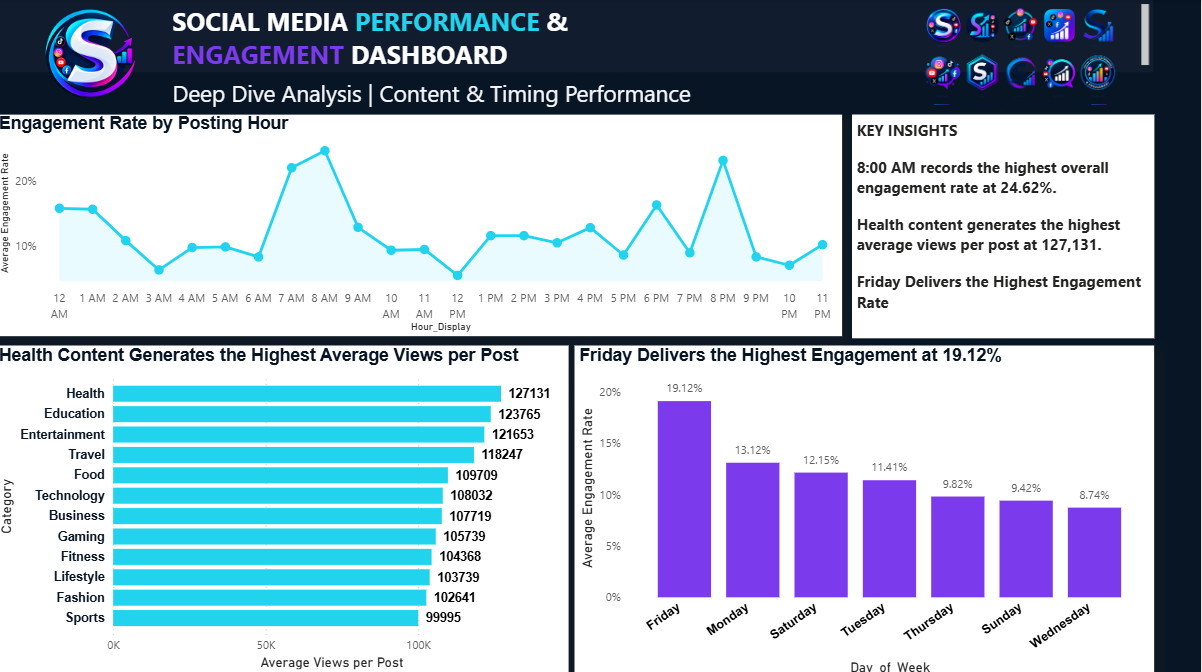

Layout of this report page (visuals, bound fields, positions):
{"tool":"powerbi","page":{"name":"Page 2","canvas":[1280,720],"ordinal":1},"visuals":[{"type":"lineChart","title":"Engagement Rate by Posting Hour","fields":{"Y":["Blisscotech_Hackathon_Cleaned_D.Average Engagement Rate"],"Category":["Blisscotech_Hackathon_Cleaned_D.Hour_Display"]},"box":[0,121.3,899.4,236.9],"z":0},{"type":"clusteredBarChart","title":"Health Content Generates the Highest Average Views per Post","fields":{"Category":["Blisscotech_Hackathon_Cleaned_D.Category"],"Y":["Blisscotech_Hackathon_Cleaned_D.Average Views per Post"]},"box":[0,366.7,609.3,348.1],"z":1000},{"type":"clusteredColumnChart","title":"Friday Delivers the Highest Engagement at 19.12%","fields":{"Category":["Blisscotech_Hackathon_Cleaned_D.Day_of_Week"],"Y":["Blisscotech_Hackathon_Cleaned_D.Average Engagement Rate"]},"box":[614.8,366.7,614.8,353.7],"z":2000},{"type":"textbox","box":[0,0,1229.6,77.8],"z":3000},{"type":"textbox","box":[0,77.8,1229.6,44.4],"z":4000},{"type":"textbox","box":[909.3,122.2,320.4,237],"z":5000},{"type":"image","box":[16.7,9.3,172.2,100],"z":6000},{"type":"image","box":[985.2,0,207.4,118.5],"z":7000}]}

Visuals, with their boxes in screenshot pixels (x1, y1, x2, y2), scaled from the page's 1280x720 canvas onto the 1202x672 screenshot:
"Engagement Rate by Posting Hour" lineChart: x1=0, y1=113, x2=845, y2=334
"Health Content Generates the Highest Average Views per Post" clusteredBarChart: x1=0, y1=342, x2=572, y2=667
"Friday Delivers the Highest Engagement at 19.12%" clusteredColumnChart: x1=577, y1=342, x2=1155, y2=671
textbox: x1=0, y1=0, x2=1155, y2=73
textbox: x1=0, y1=73, x2=1155, y2=114
textbox: x1=854, y1=114, x2=1155, y2=335
image: x1=16, y1=9, x2=177, y2=102
image: x1=925, y1=0, x2=1120, y2=111
